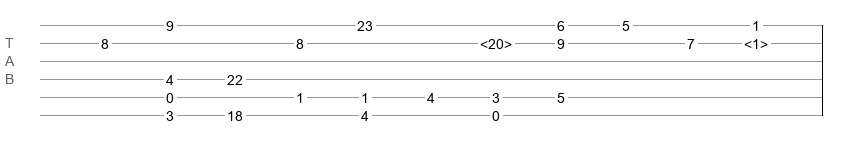0: (166, 90, 174, 100), (492, 108, 500, 118)
1: (296, 90, 304, 100), (361, 90, 369, 100), (752, 18, 760, 28)
18: (227, 108, 243, 118)
22: (227, 72, 243, 82)
23: (357, 18, 373, 28)
3: (166, 108, 174, 118), (492, 90, 500, 100)
4: (166, 72, 174, 82), (361, 108, 369, 118), (427, 90, 435, 100)
5: (557, 90, 565, 100), (622, 18, 630, 28)
6: (557, 18, 565, 28)
7: (687, 36, 695, 46)
8: (101, 36, 109, 46), (296, 36, 304, 46)
9: (166, 18, 174, 28), (557, 36, 565, 46)
harmonic: (480, 36, 512, 46), (744, 36, 768, 46)
